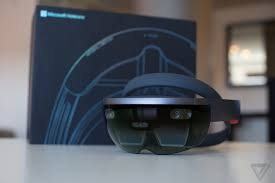hololens: (102, 76, 243, 157)
